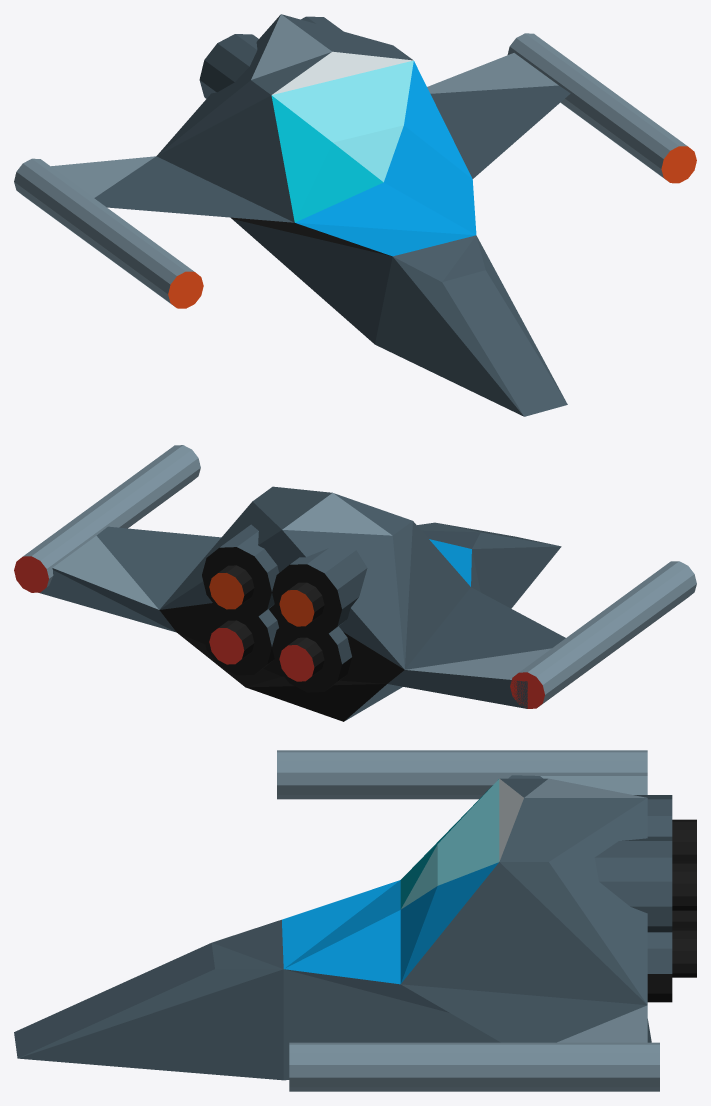
Rendered from scene_NAYtdr92rv.glb.
3 renders of one model, top to bottom at view 1: azimuth 30°, elevation 25°; view 2: azimuth 150°, elevation 25°; view 3: azimuth 270°, elevation 25°, orthographic. The views are drawn at different scales.
Visible parts, largest first — view 1: Node; view 2: Node; view 3: Node.
Boxes of the visible parts, <box> form: Node: <box>14,14,696,416</box>; Node: <box>14,445,696,721</box>; Node: <box>14,750,696,1091</box>.
Bounding box in the file's own units: 0.3 × 0.11 × 0.2766.
